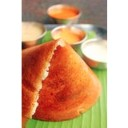dosa: (22, 39, 103, 118)
